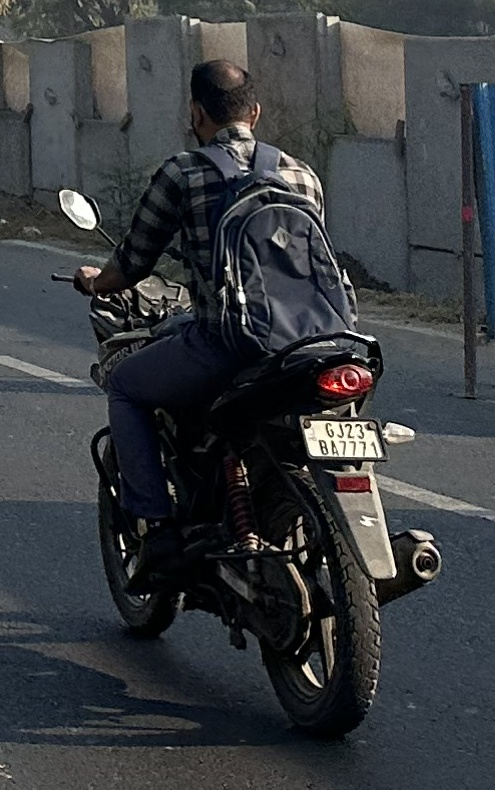BikeWithRider: (41, 48, 450, 746)
NoHelmet: (176, 50, 269, 148)
